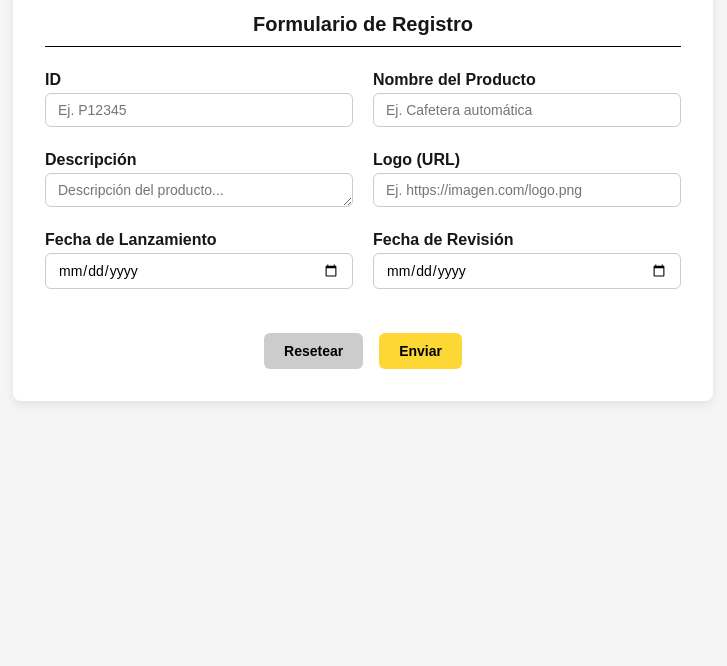
Test case: ProductForm › debe mostrar los productos registrados en la sesión
The image size is (727, 666).
Type "P11111" into the field labelled "ID" at (199, 110), box [45,93,353,127]
Type "Monitor LED" into the field labelled "Nombre del Producto" at (527, 110), box [373,93,681,127]
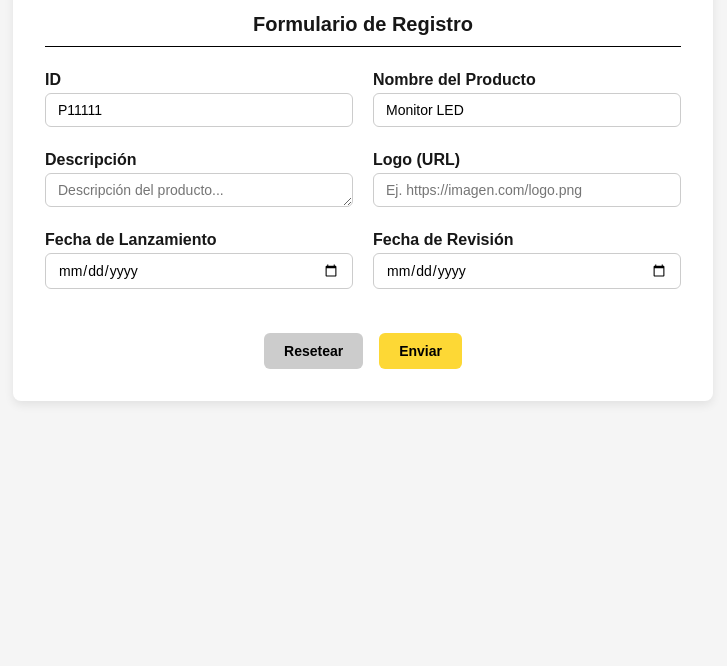
Type "Full HD 24 pulgadas" into the text box labelled "Descripción" at (199, 190), box [45,173,353,207]
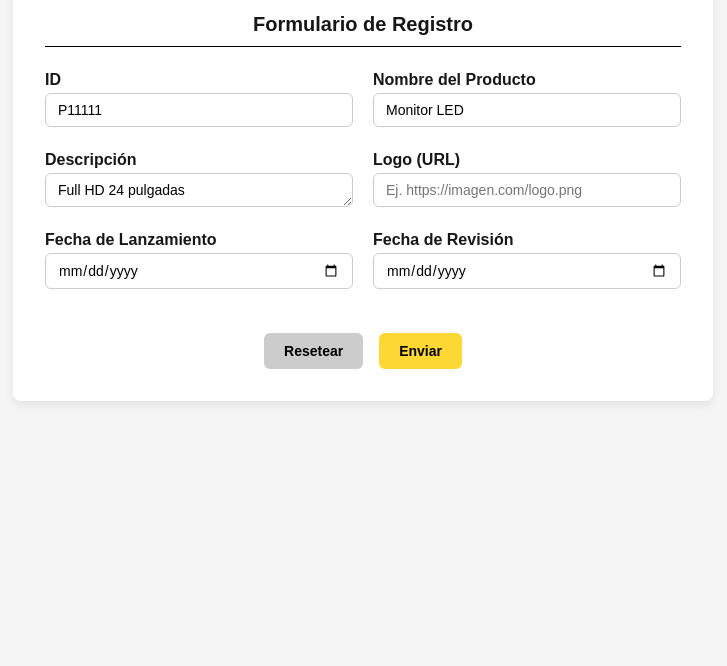
Type "https://imagen.com/monitor.png" into the field labelled "Logo (URL)" at (527, 190), box [373,173,681,207]
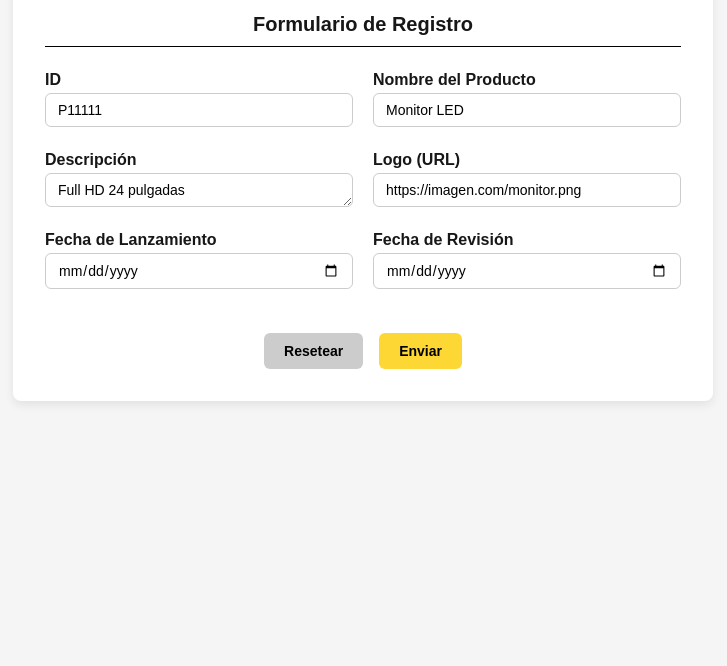
Type "2025-07-30" into the date field labelled "Fecha de Lanzamiento" at (199, 271), box [45,253,353,289]
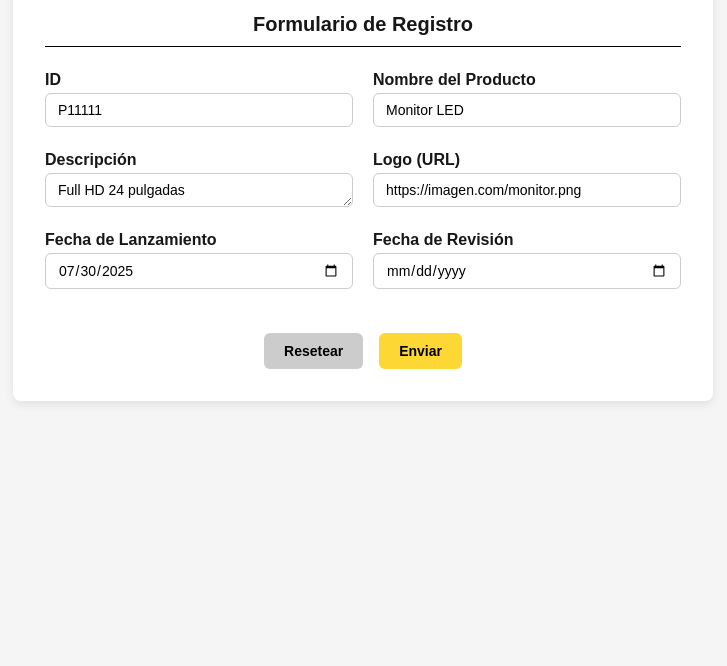
Type "2026-07-30" into the date field labelled "Fecha de Revisión" at (527, 271), box [373,253,681,289]
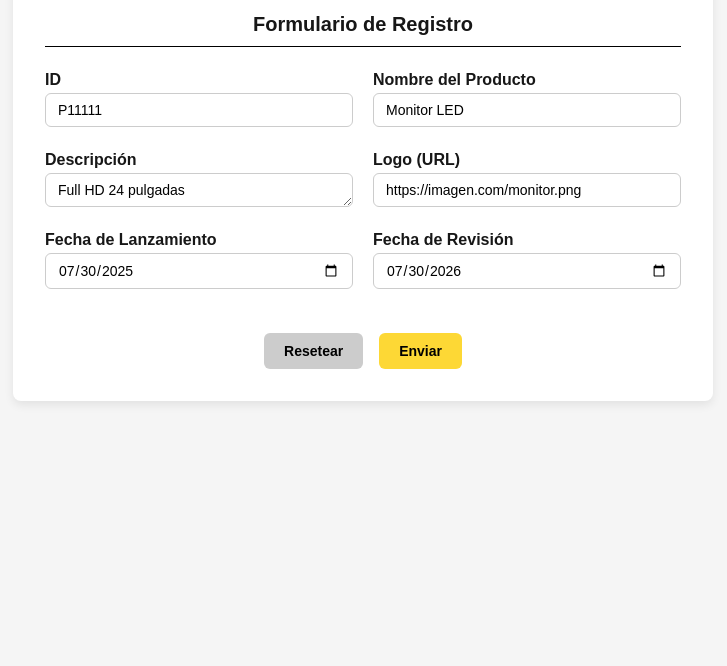
Click the button "Enviar" at (421, 351), box [379,333,462,369]
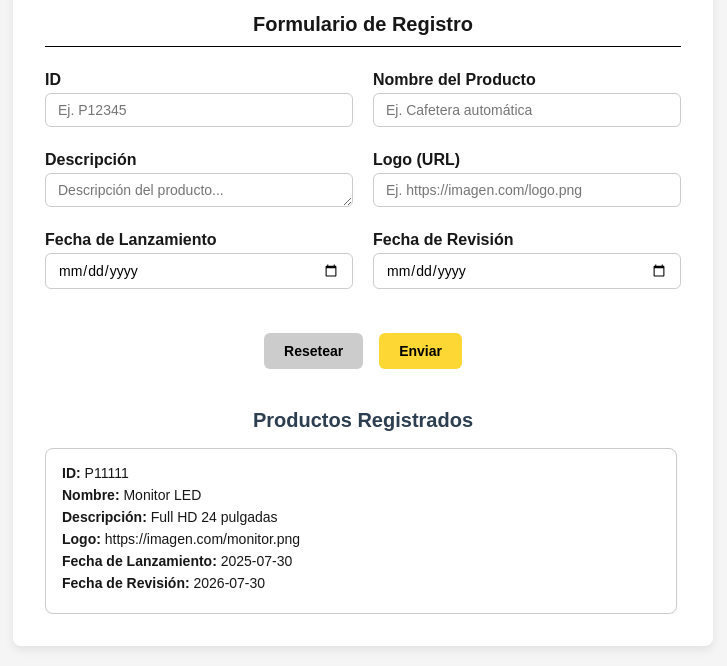
Check: the heading "Productos Registrados" is shown, box [253,409,473,431]
Check: the text "Nombre: Monitor LED" is shown, box [62,487,201,503]
Check: the text "ID: P11111" is shown, box [62,465,129,481]
